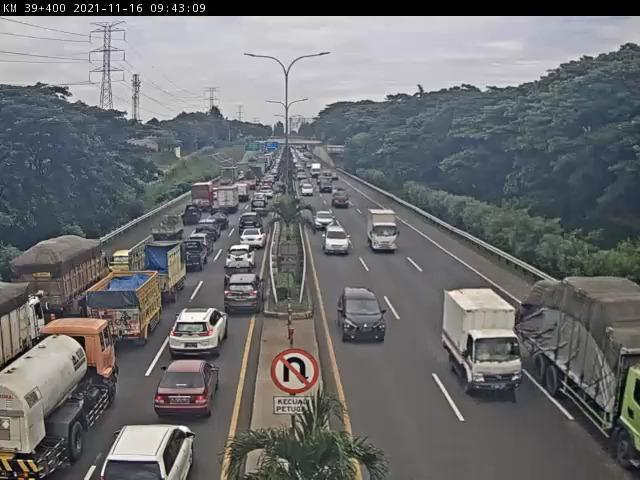car: (99, 425, 195, 480), (157, 359, 221, 419), (172, 308, 230, 358), (339, 286, 388, 344), (227, 275, 268, 316), (323, 226, 353, 256), (228, 246, 259, 273), (242, 230, 269, 249), (197, 220, 223, 239), (240, 214, 264, 233), (113, 251, 134, 272), (210, 209, 230, 230), (192, 235, 215, 253), (184, 206, 203, 225), (315, 212, 335, 230), (251, 201, 268, 217), (255, 194, 269, 205), (302, 184, 314, 196), (261, 188, 274, 199)
truck: (523, 278, 640, 477), (1, 317, 117, 480), (444, 293, 524, 402), (13, 237, 111, 319), (90, 271, 165, 348), (1, 284, 45, 374), (130, 241, 189, 301), (368, 208, 403, 258), (183, 240, 209, 272), (153, 217, 183, 242), (193, 183, 215, 211), (219, 189, 241, 214), (221, 168, 239, 187), (332, 188, 350, 207), (234, 184, 250, 202), (321, 178, 334, 193)
